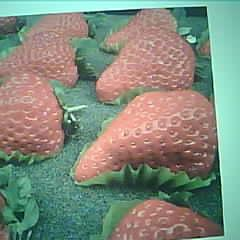straw-ripe: (75, 91, 217, 180), (96, 31, 197, 101)
